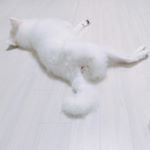puppy: (6, 12, 150, 122)
